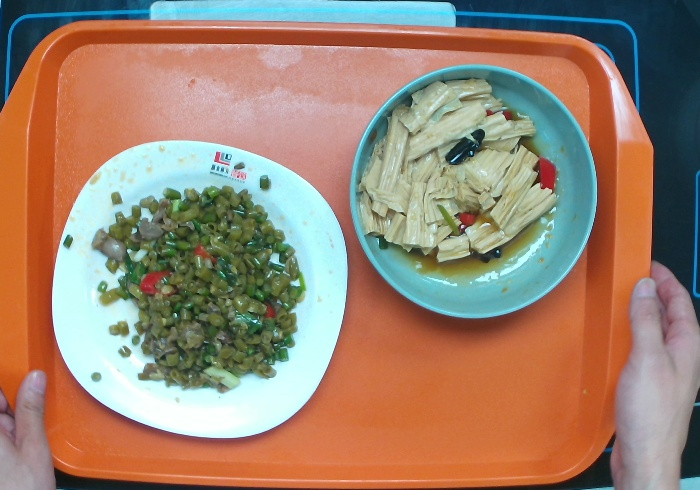ZNLD-Qing_Hua_Yuan_Wan: (347, 62, 599, 320)
ZNLD-Yuan_Jiao_Pan: (49, 138, 349, 440)
